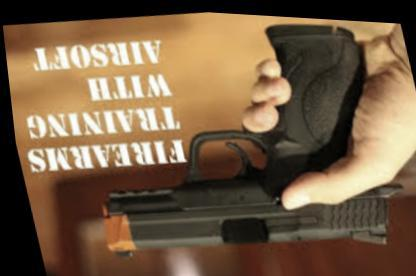pistol: (60, 9, 415, 273)
